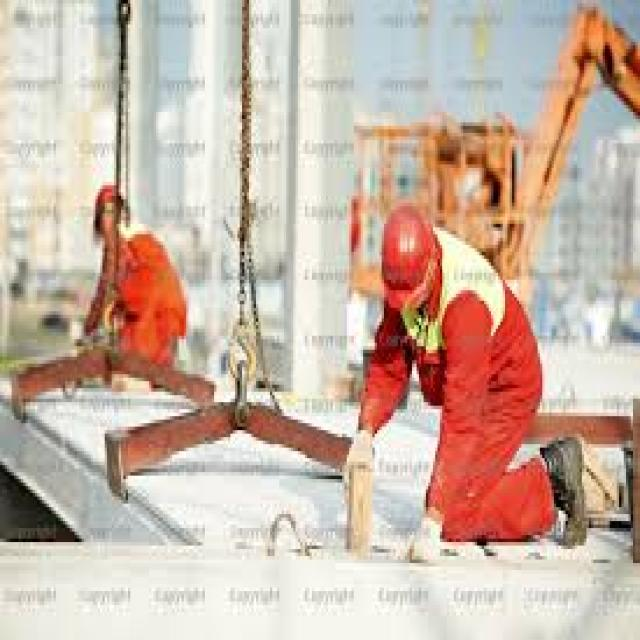Reflective-Jacket: (421, 231, 552, 472), (95, 224, 191, 367)
Safety-Helmet: (368, 196, 444, 311), (81, 168, 132, 234)
